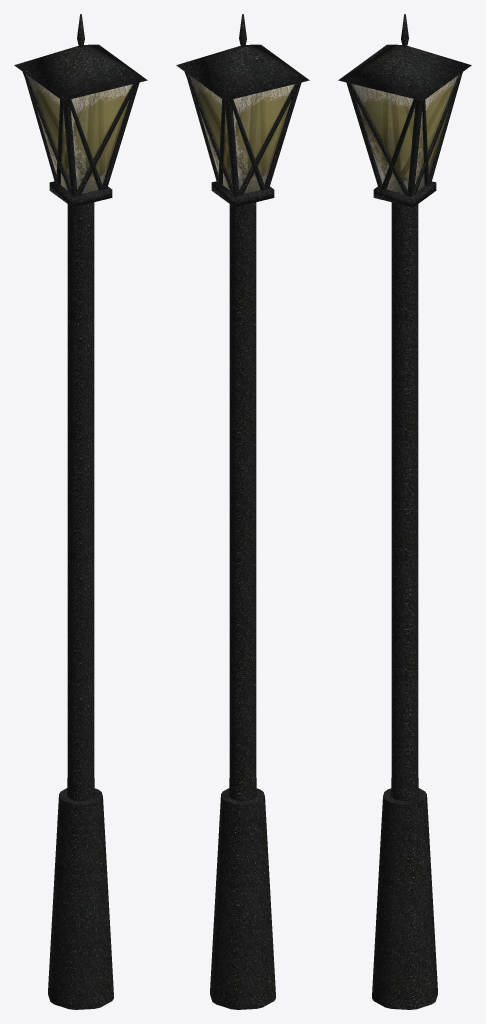
File: lamp.fbx
The picture shows the model from 3 angles, left to right: view 1: azimuth 30°, elevation 25°; view 2: azimuth 210°, elevation 25°; view 3: azimuth 330°, elevation 25°; orthographic projection.
Parts seen in each view (by area): view 1: lamp, lamp_glass; view 2: lamp, lamp_glass; view 3: lamp, lamp_glass.
Part boxes in pixels (x1,y1,x2,y2): lamp: [14, 14, 147, 1009]; lamp_glass: [27, 75, 132, 193]; lamp: [176, 14, 309, 1009]; lamp_glass: [189, 75, 294, 193]; lamp: [338, 14, 471, 1009]; lamp_glass: [352, 76, 457, 193].
Bounding box in the file's own units: 30.82 × 340 × 30.82.
2 materials, 2 textured.
